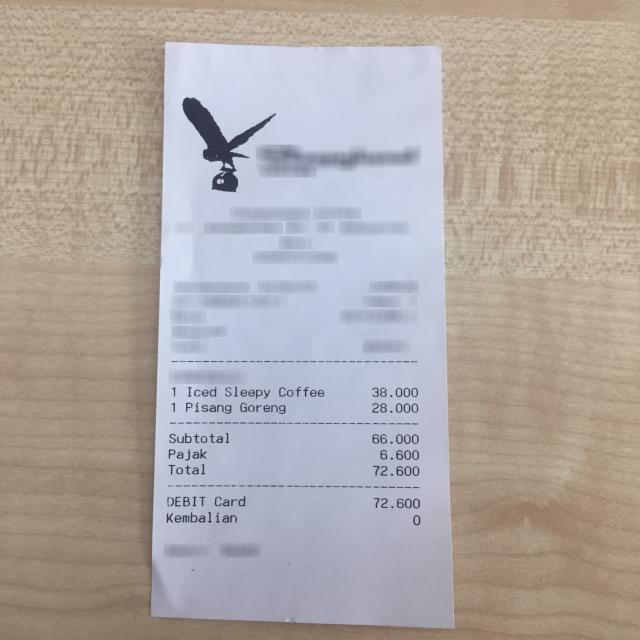kertas: (152, 40, 467, 628)
